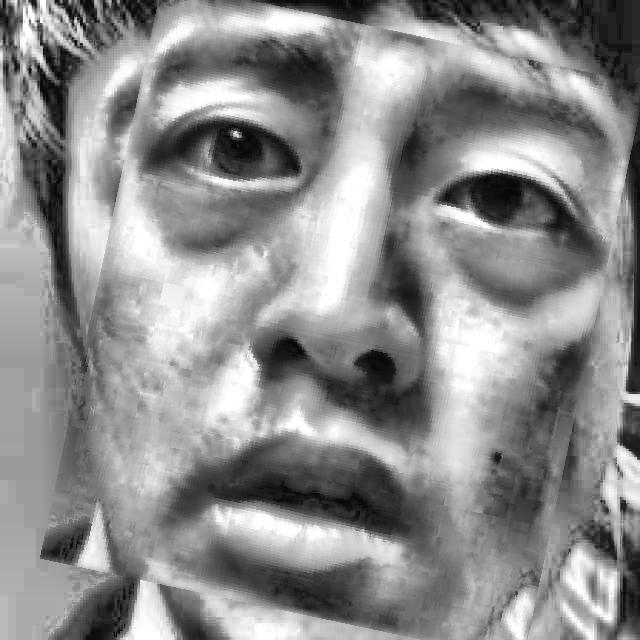fear: (68, 4, 618, 638)
